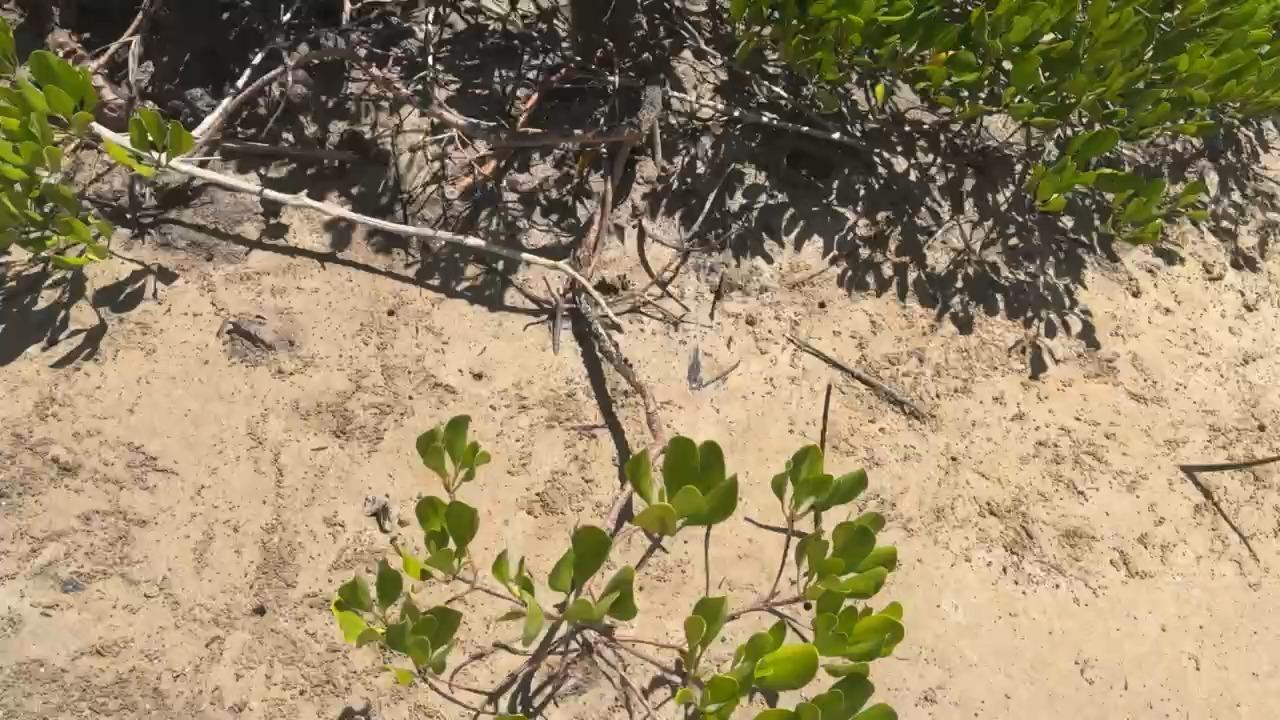Tree: (813, 383, 835, 536), (1175, 454, 1280, 475)
